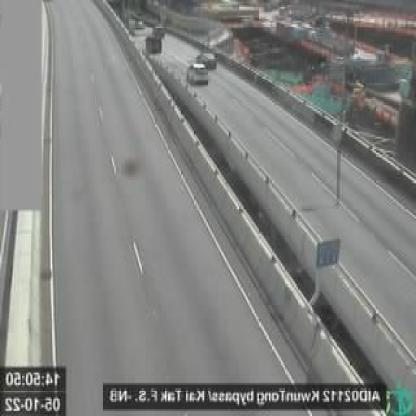Car: (187, 62, 209, 85), (196, 50, 218, 68)
